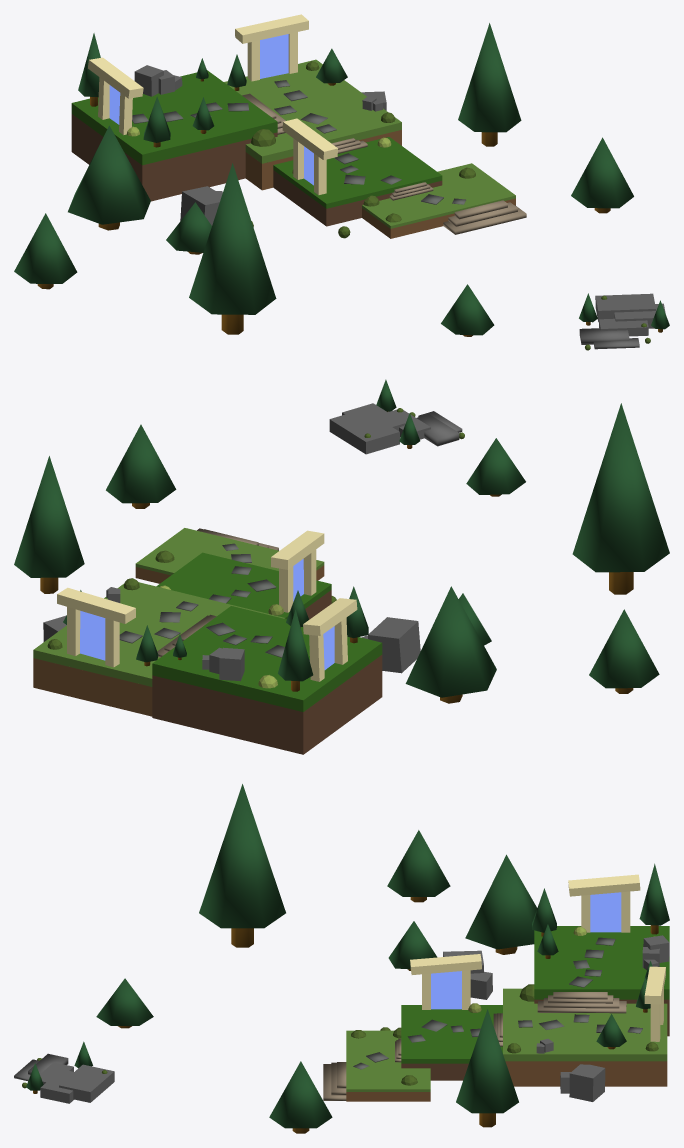
The model's file is environment.glb.
3 renders of one model, top to bottom at view 1: azimuth 30°, elevation 25°; view 2: azimuth 150°, elevation 25°; view 3: azimuth 270°, elevation 25°, orthographic. The views are drawn at different scales.
Visible parts, largest first — view 1: terrain, terrain.001, trees.005, terrain.002, terrain.003, trees.002, trees.013, trees.014, trees.016, trees.007, trees.018, gates.008 (+14 smaller); view 2: terrain, terrain.001, trees.005, trees.002, trees.013, terrain.002, terrain.003, trees.016, trees.014, rocks, rocks.009, trees.007 (+14 smaller); view 3: terrain.001, trees.005, terrain, terrain.002, terrain.003, trees.002, trees.013, trees.014, trees.016, trees.007, rocks.009, portals.001 (+12 smaller).
Part boxes in pixels (left/top/right/bottom): terrain: left=71, top=70, right=277, bottom=201; terrain.001: left=224, top=59, right=401, bottom=190; trees.005: left=189, top=163, right=276, bottom=334; terrain.002: left=273, top=137, right=442, bottom=226; terrain.003: left=362, top=163, right=515, bottom=238; trees.002: left=68, top=125, right=150, bottom=230; trees.013: left=458, top=23, right=521, bottom=146; trees.014: left=571, top=137, right=633, bottom=213; trees.016: left=14, top=213, right=77, bottom=289; trees.007: left=441, top=284, right=494, bottom=336; trees.018: left=166, top=202, right=211, bottom=254; gates.008: left=235, top=14, right=308, bottom=43; terrain: left=152, top=606, right=382, bottom=754; terrain.001: left=33, top=582, right=285, bottom=716; trees.005: left=572, top=403, right=669, bottom=594; trees.002: left=405, top=586, right=496, bottom=703; trees.013: left=14, top=456, right=84, bottom=593; terrain.002: left=156, top=552, right=331, bottom=619; terrain.003: left=135, top=528, right=324, bottom=583; trees.016: left=589, top=609, right=659, bottom=693; trees.014: left=106, top=424, right=176, bottom=508; rocks: left=368, top=617, right=420, bottom=673; rocks.009: left=329, top=409, right=399, bottom=454; trees.007: left=466, top=438, right=525, bottom=496; terrain.001: left=503, top=988, right=667, bottom=1086; trees.005: left=199, top=784, right=285, bottom=947; terrain: left=534, top=926, right=669, bottom=1036; terrain.002: left=401, top=1005, right=502, bottom=1080; terrain.003: left=346, top=1030, right=430, bottom=1101; trees.002: left=465, top=854, right=537, bottom=954; trees.013: left=456, top=1009, right=518, bottom=1127; trees.014: left=269, top=1061, right=332, bottom=1133; trees.016: left=387, top=830, right=450, bottom=902; trees.007: left=96, top=978, right=153, bottom=1028; rocks.009: left=59, top=1064, right=114, bottom=1102; portals.001: left=590, top=892, right=621, bottom=932.
Size of what is drawn, in the model's own units: 40.29 by 12.7 by 44.13.
